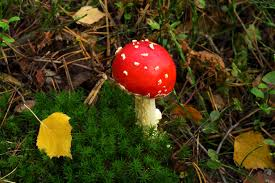vase: (111, 39, 174, 95)
